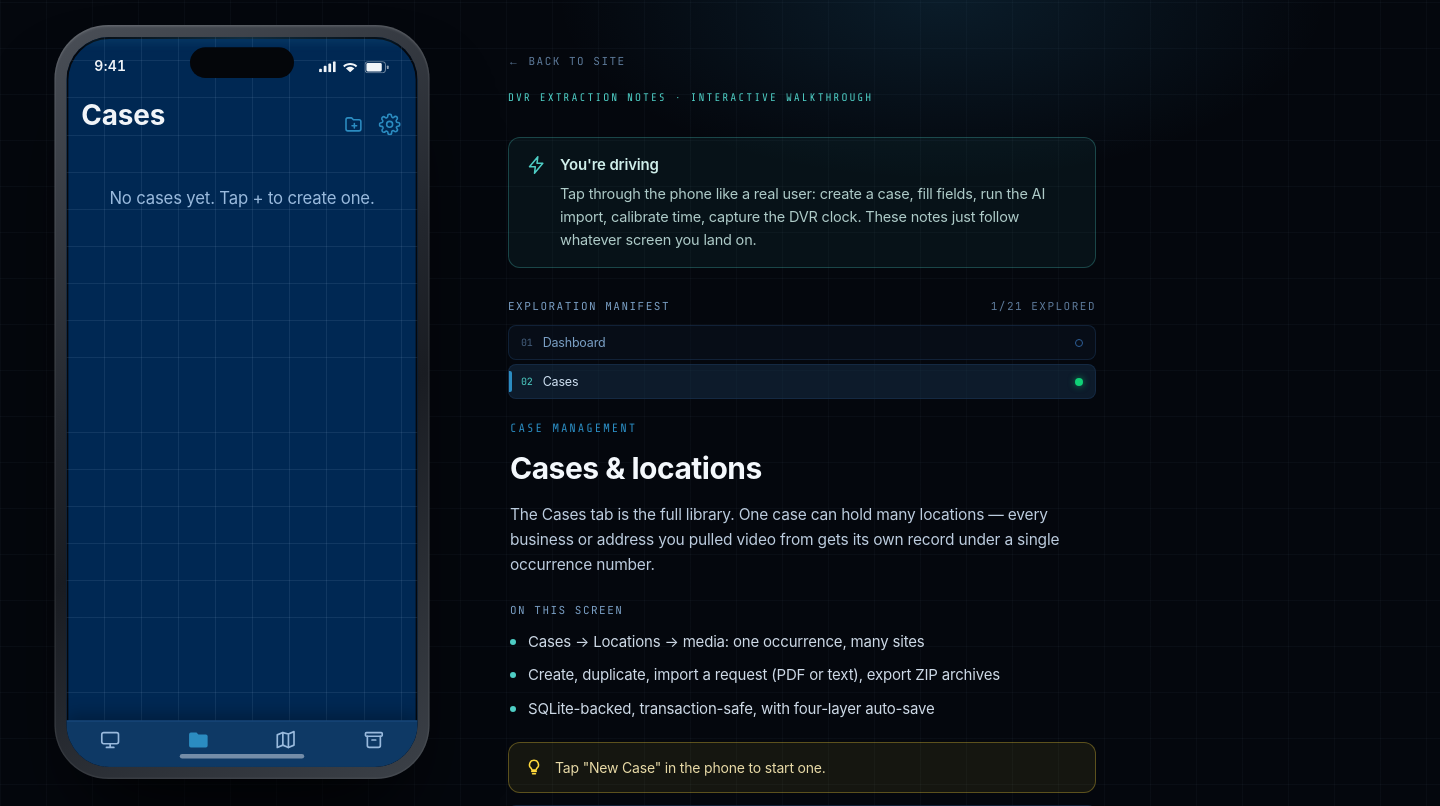
Test: DemoExperience — Export tab wiring › says "No cases to export" with an empty store
Click the button named "Export" at (374, 741), box top-left (330, 727), bottom-right (418, 756)
(page scrolled)
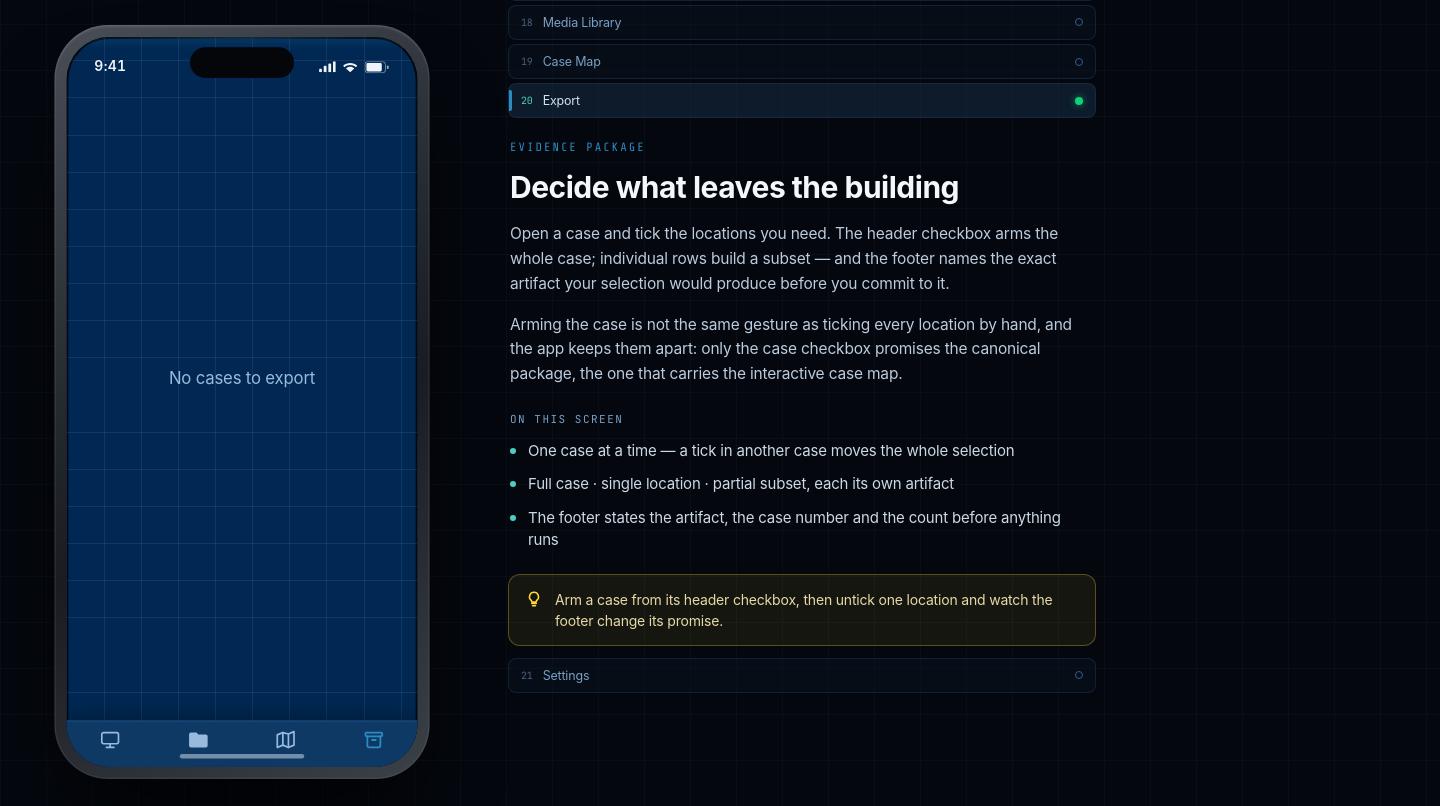
Now the text "No cases to export" is shown, box top-left (169, 369), bottom-right (315, 388)
